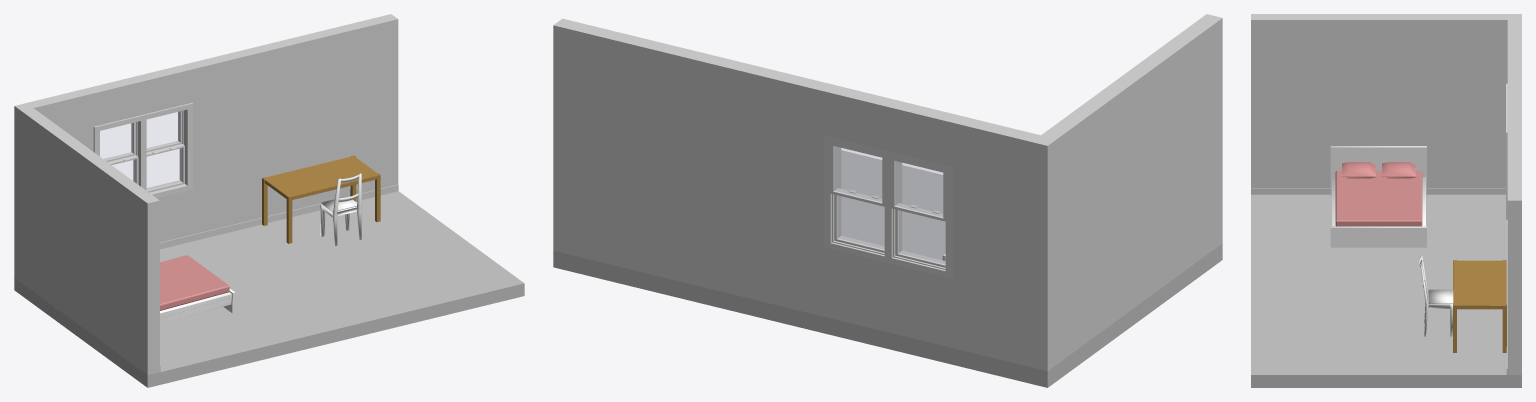
The model's file is L12_W20_furniture2_daylight3.glb.
3 renders of one model, left to right at view 1: azimuth 30°, elevation 25°; view 2: azimuth 150°, elevation 25°; view 3: azimuth 270°, elevation 25°, orthographic. The views are drawn at different scales.
Size of the model in its own units: 248 by 116 by 152.
